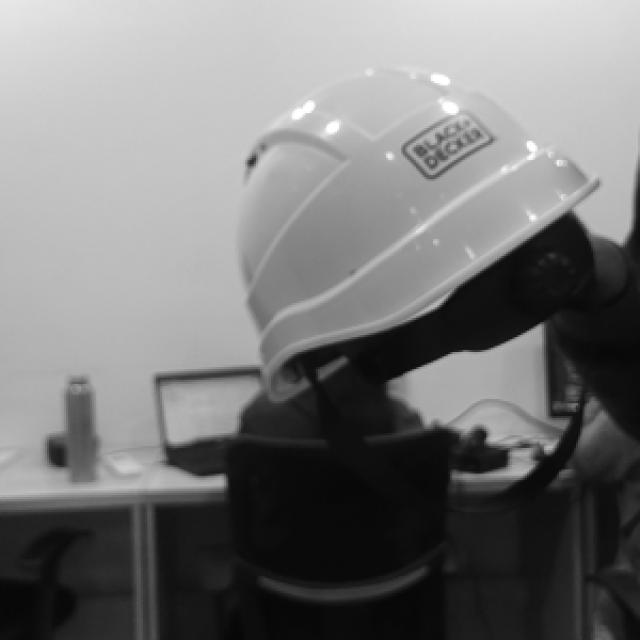safety_helmet: (240, 69, 601, 402)
